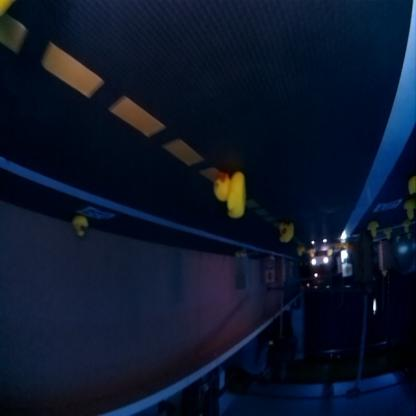Duckie: (216, 172, 245, 219), (279, 222, 294, 242), (72, 218, 86, 236), (368, 223, 378, 238), (404, 206, 414, 220)
QR code: (78, 207, 112, 221)
